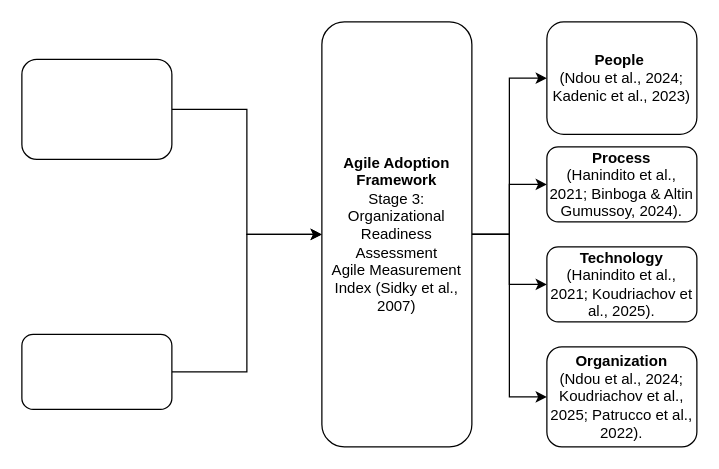
The diagram is 719 pixels wide and 469 high, and some of its shapes have lost their labels. The shapes that lost their labels are listed below. From the top down, each one's box as (x1, y1, x2, y2) in pixels, then its label:
(21, 58, 172, 159): Agile Software Development (Koudriachov et al., 2025; Patrucco et al., 2022)
(21, 333, 172, 409): Scrum Framework (Kadenic et al., 2023; Sassa et al., 2023)
